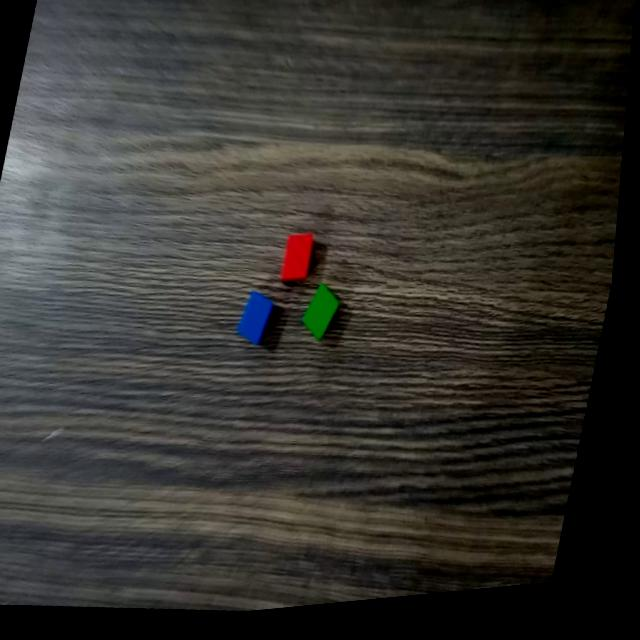cube: (301, 281, 353, 353), (237, 287, 287, 359), (281, 230, 323, 295)
